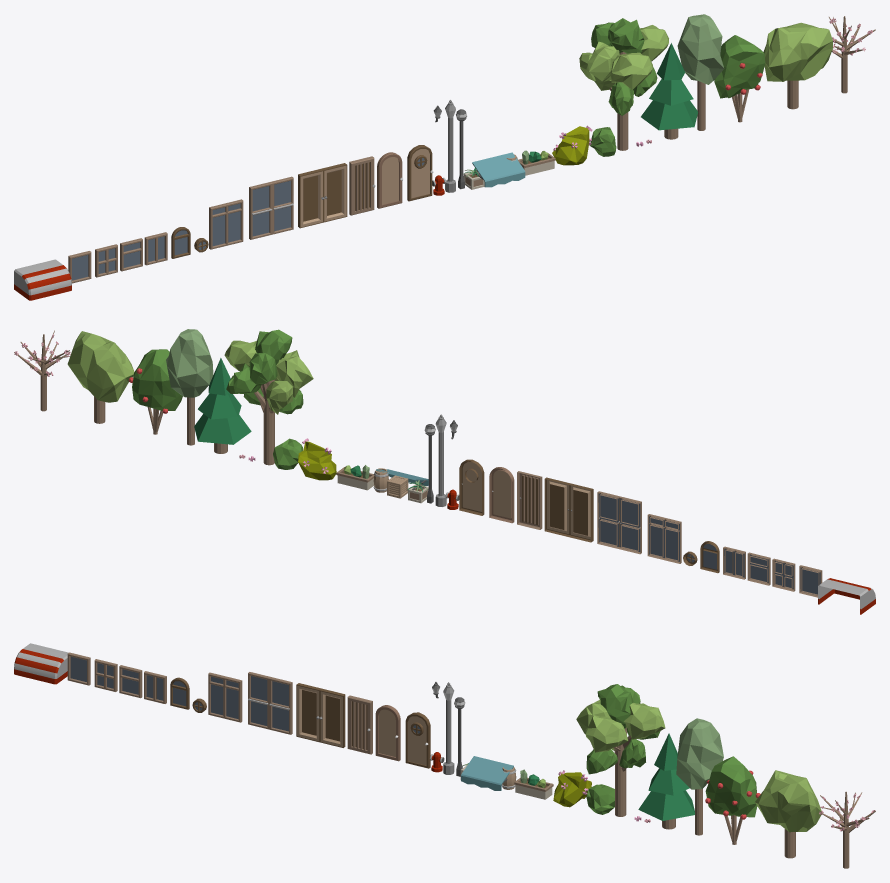
File: objetos.fbx
3 renders of one model, top to bottom at view 1: azimuth 30°, elevation 25°; view 2: azimuth 150°, elevation 25°; view 3: azimuth 330°, elevation 25°, orthographic.
Parts seen in each view (by area): view 1: arbol_1, arbol_5, arbol_2, arbol_3, puerta_4, arbol_4, puerta_5, toldo_1, ventana_7, puerta_2, puerta_3, puerta_1 (+11 smaller); view 2: arbol_1, arbol_5, arbol_2, arbol_3, puerta_4, arbol_4, puerta_5, ventana_7, puerta_2, puerta_3, puerta_1, arbusto_2 (+10 smaller); view 3: arbol_1, arbol_5, arbol_2, arbol_4, puerta_4, arbol_3, puerta_5, toldo_1, ventana_7, puerta_2, puerta_1, puerta_3 (+11 smaller).
Boxes of the visible parts, x1=… form: arbol_1: x1=579, y1=18, x2=668, y2=150; arbol_5: x1=763, y1=22, x2=832, y2=109; arbol_2: x1=677, y1=14, x2=724, y2=130; arbol_3: x1=641, y1=43, x2=697, y2=139; puerta_4: x1=298, y1=163, x2=347, y2=228; arbol_4: x1=714, y1=35, x2=765, y2=122; puerta_5: x1=249, y1=176, x2=293, y2=239; toldo_1: x1=14, y1=259, x2=71, y2=300; ventana_7: x1=209, y1=199, x2=243, y2=249; puerta_2: x1=349, y1=156, x2=375, y2=215; puerta_3: x1=407, y1=145, x2=433, y2=201; puerta_1: x1=377, y1=152, x2=403, y2=208; arbol_1: x1=224, y1=329, x2=313, y2=465; arbol_5: x1=67, y1=331, x2=134, y2=423; arbol_2: x1=166, y1=329, x2=213, y2=445; arbol_3: x1=194, y1=358, x2=251, y2=453; puerta_4: x1=544, y1=477, x2=593, y2=542; arbol_4: x1=128, y1=349, x2=182, y2=434; puerta_5: x1=597, y1=491, x2=641, y2=554; ventana_7: x1=647, y1=514, x2=681, y2=563; puerta_2: x1=517, y1=471, x2=542, y2=529; puerta_3: x1=459, y1=459, x2=484, y2=515; puerta_1: x1=489, y1=467, x2=514, y2=523; arbusto_2: x1=298, y1=438, x2=336, y2=480; arbol_1: x1=576, y1=684, x2=665, y2=816; arbol_5: x1=755, y1=770, x2=821, y2=858; arbol_2: x1=676, y1=718, x2=723, y2=835; arbol_4: x1=705, y1=756, x2=760, y2=844; puerta_4: x1=296, y1=683, x2=345, y2=747; arbol_3: x1=638, y1=733, x2=694, y2=829; puerta_5: x1=248, y1=672, x2=292, y2=734; toldo_1: x1=14, y1=643, x2=68, y2=684; ventana_7: x1=208, y1=672, x2=242, y2=722; puerta_2: x1=347, y1=695, x2=372, y2=754; puerta_1: x1=375, y1=705, x2=400, y2=761; puerta_3: x1=405, y1=712, x2=430, y2=768.
Size of the model in its own units: 39.66 by 5.91 by 3.16.
